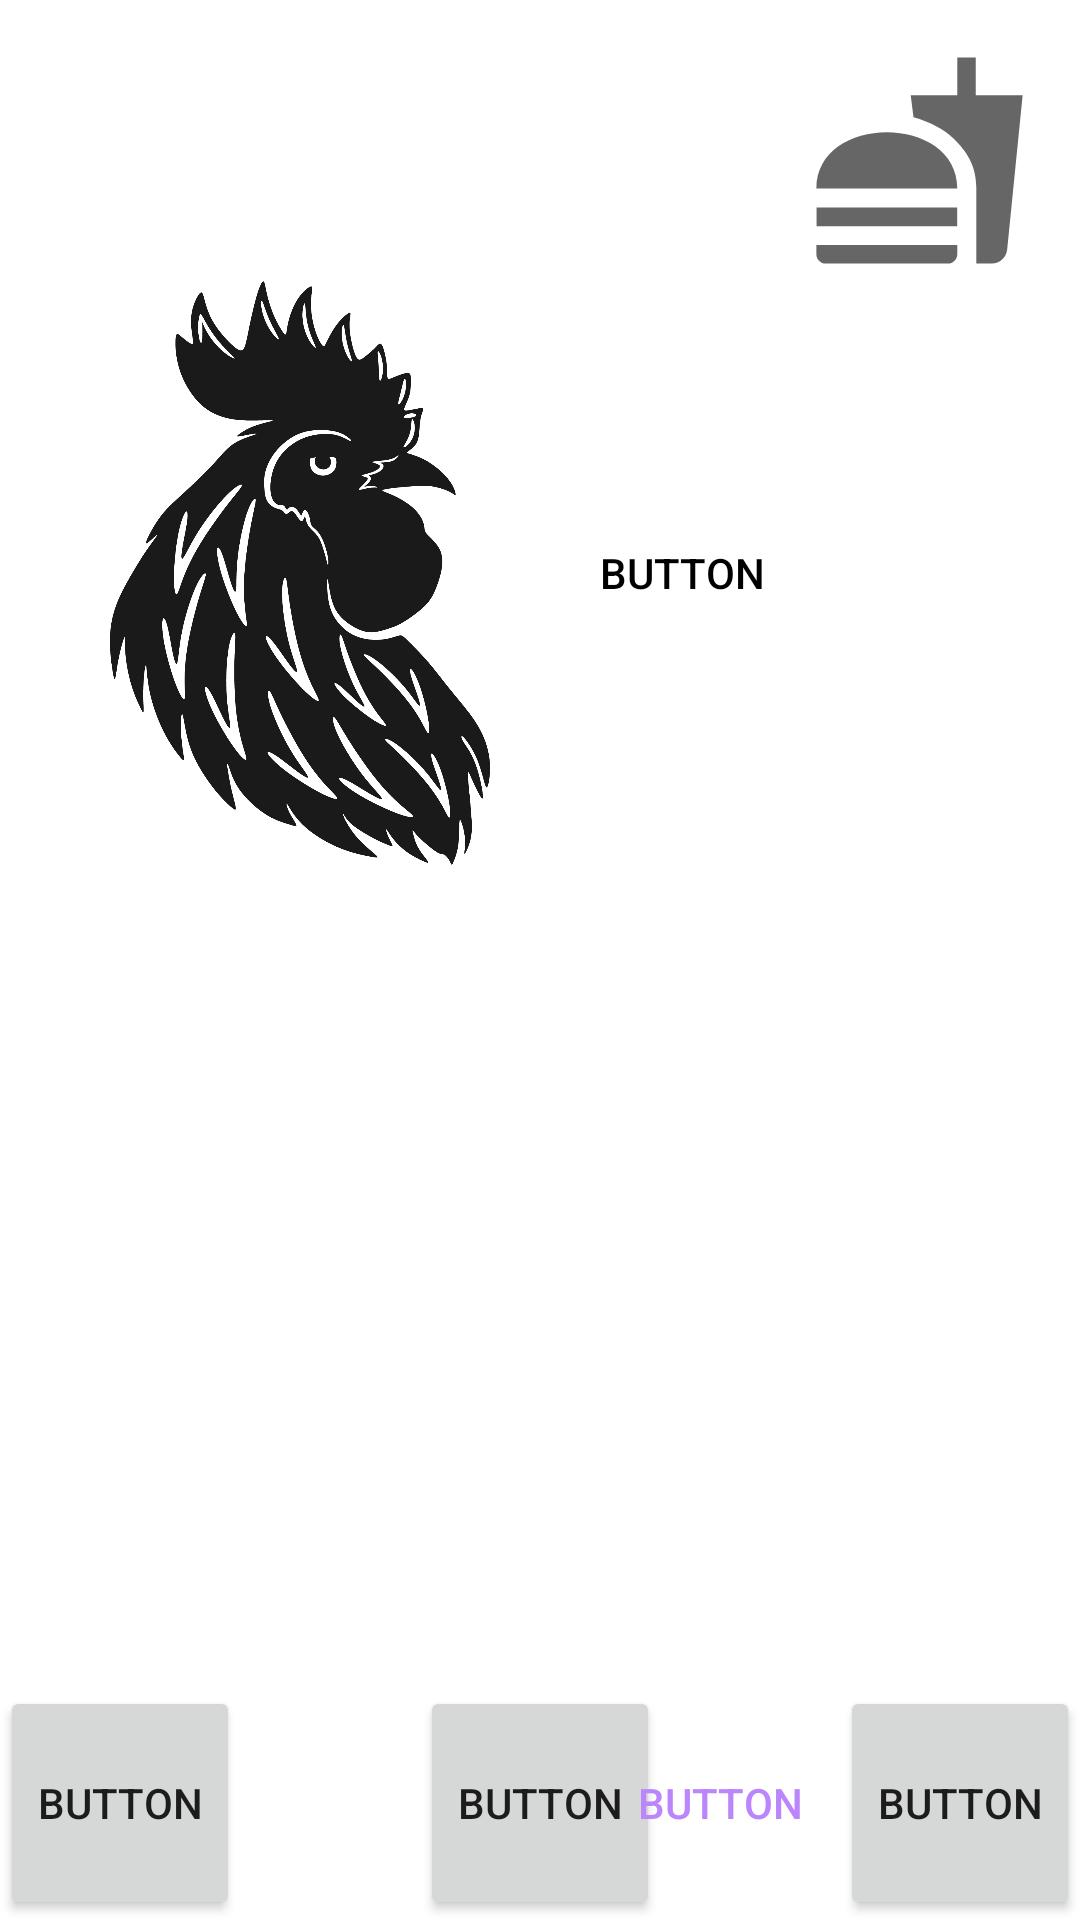

Screen size 1080 × 1920. Icon name, then its box in pixels as rect(x1, y1, x2, y2):
fastfood: rect(816, 57, 1023, 264)
